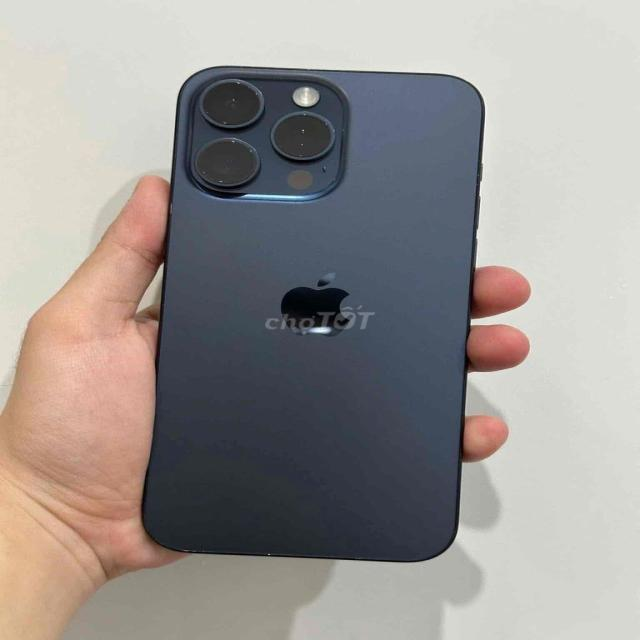gen_15: (135, 63, 497, 580)
